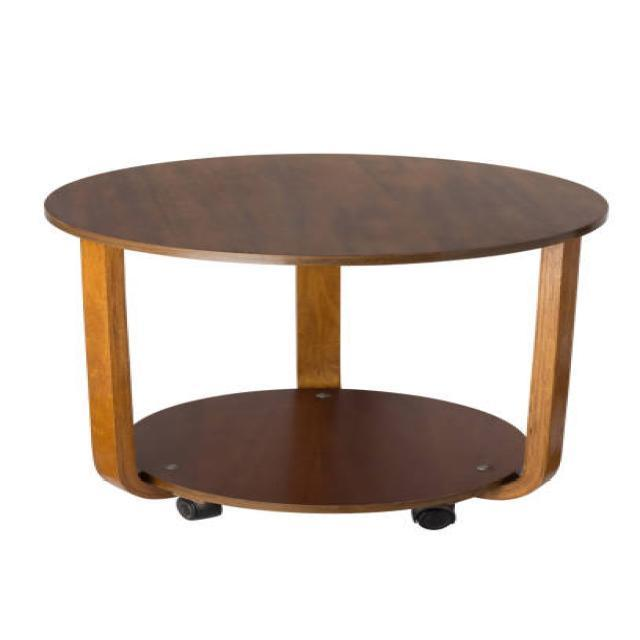table: (42, 152, 609, 530)
